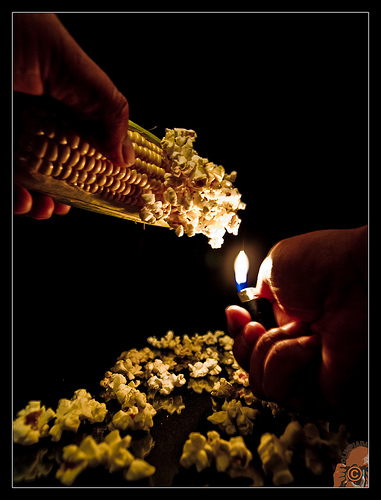corn: (13, 95, 249, 247)
